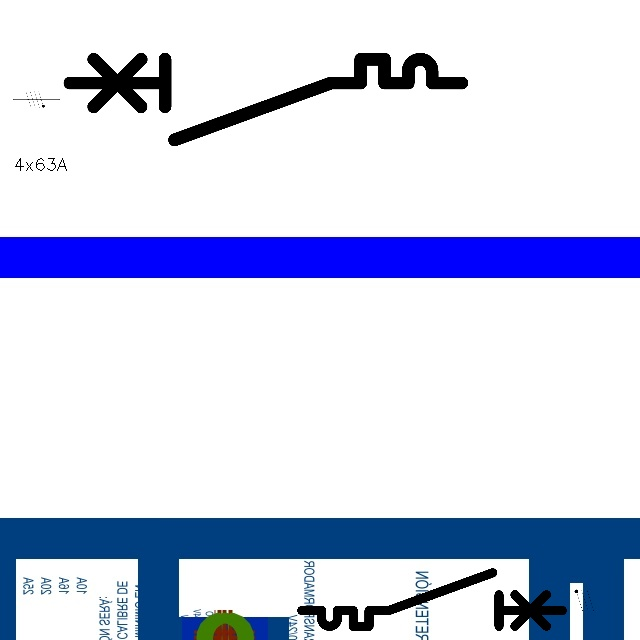interruptor_termomagnetico: (59, 49, 472, 150), (295, 566, 569, 633)
